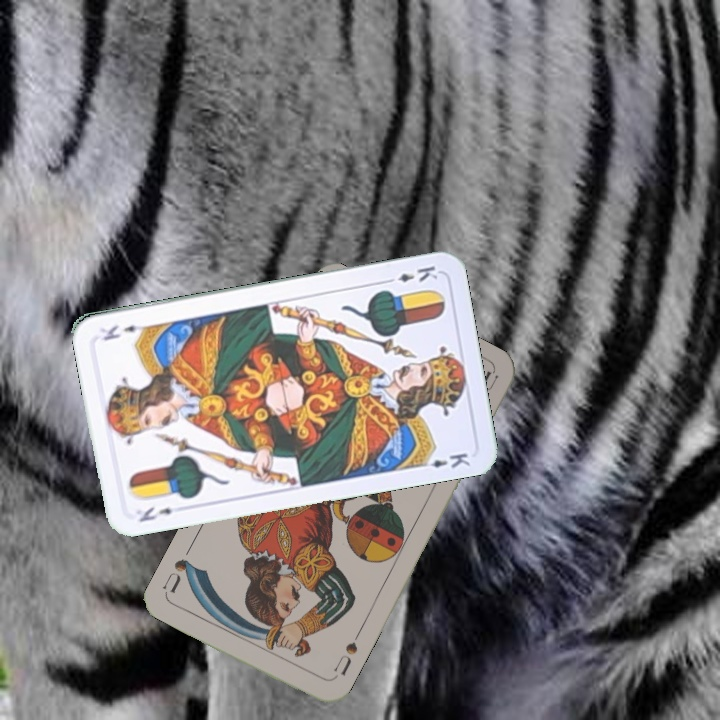EK: (381, 262, 441, 286), (135, 502, 176, 525)
SU: (324, 638, 361, 683)
